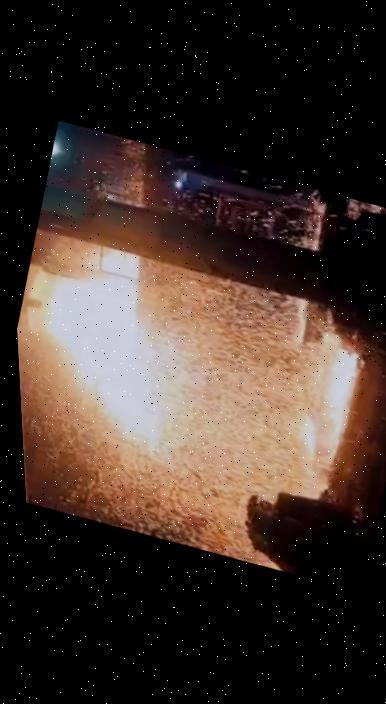fire: (2, 217, 381, 559)
